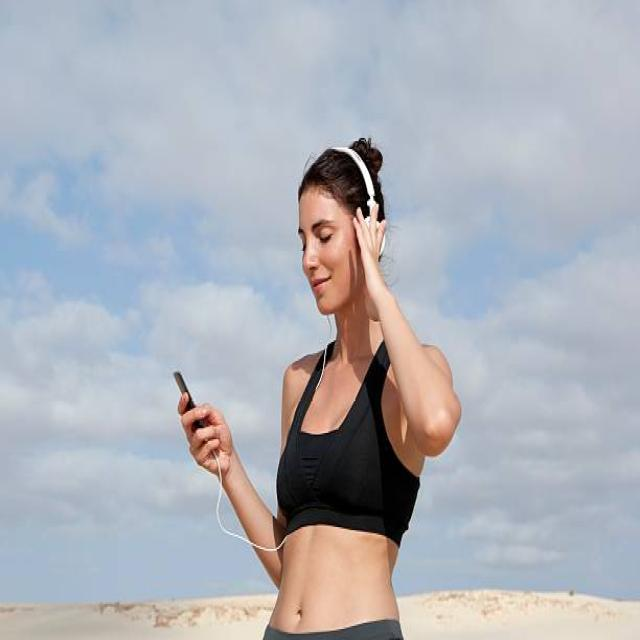Headphone: (329, 144, 387, 258)
